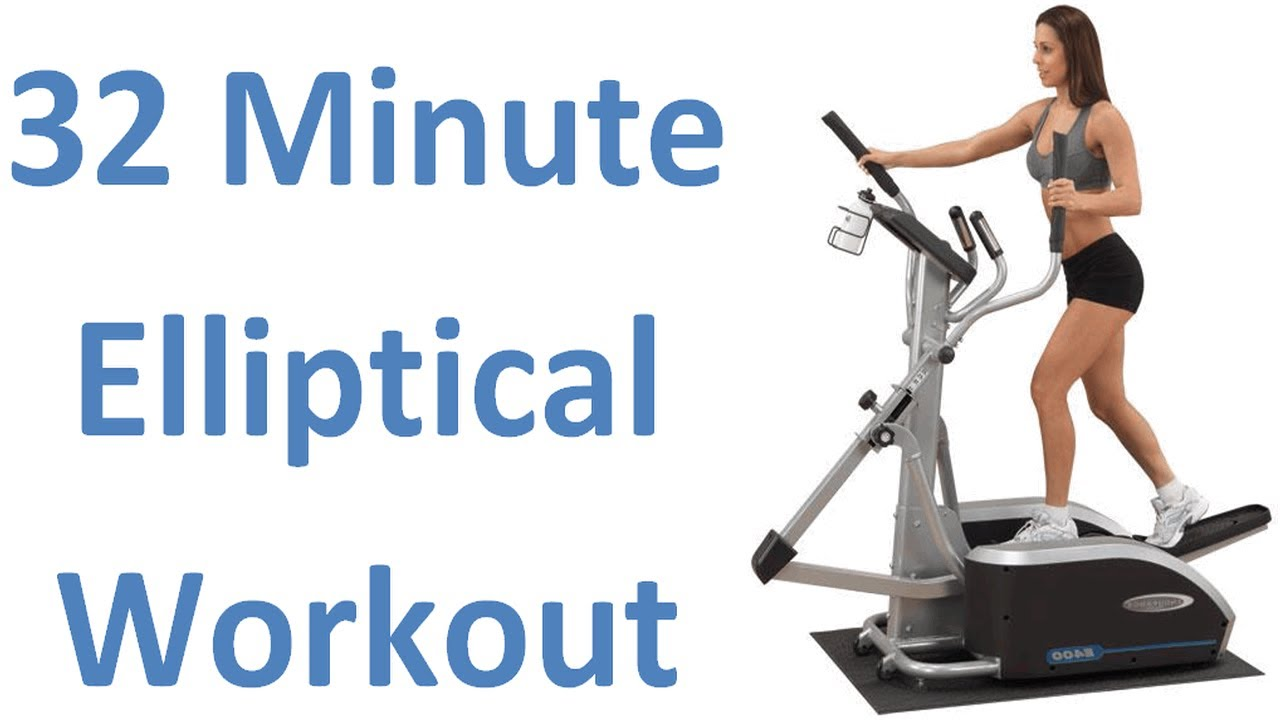gym_bike: (709, 99, 1273, 699)
